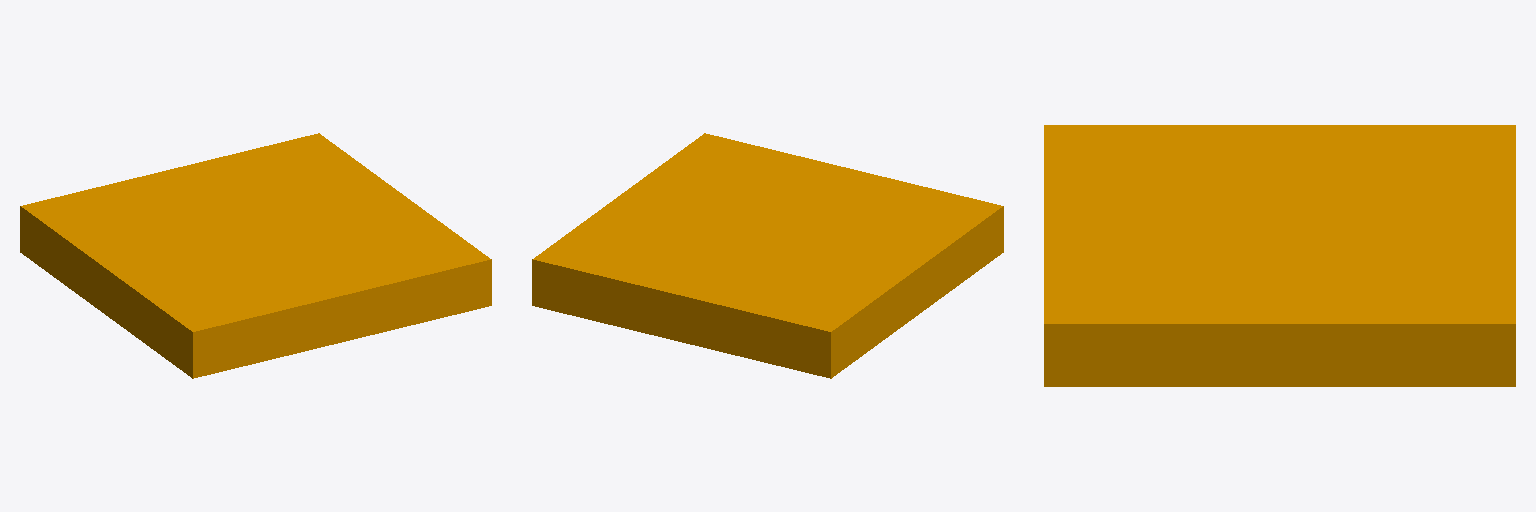
robot.urdf — apriltag_1_3611:
<robot name="apriltag_1_3611">

    <link name="apriltag_link_id1">
        <inertial>
            <origin xyz="0 0 0" rpy="0 0 0"/>
            <mass value="1.0"/>
            <inertia ixx="0.07461" ixy="0.0" ixz="0.0" iyy="0.5854" iyz="0.0" izz="0.02641"/>
        </inertial>
        <collision>
            <origin xyz="0 0 0" rpy="0 0 0"/>
            <geometry>
                <box size="0.2 0.2 0.1"/>
            </geometry>
        </collision>
        <visual>
            <origin xyz="0 0 0" rpy="0 0 0"/>
            <geometry>
                <mesh filename="package://apriltag_description/meshes/apriltag_1.dae"/>
            </geometry>
        </visual>
    </link>
    
    <gazebo reference="apriltag_link_id1">
        <kp>100000.0</kp>
        <kd>100000.0</kd>
        <mu1>0.1</mu1>
        <mu2>0.1</mu2>  
        <fdir1>1 0 0</fdir1>

           <!-- this tag may be unecessary if static is set to true
            (but using since may set static to false later)-->
        <gravity>0</gravity>
    </gazebo>

    <!-- Make sure that the reference="" attribute is not specified -->
    <gazebo>
        <static>true</static>
     
        
    </gazebo>
    

</robot>

--- What the picture shows (computed from the rendered views, not written in the file) ---
3 views of the same robot in one strip: view 1: azimuth 30°, elevation 25°; view 2: azimuth 150°, elevation 25°; view 3: azimuth 270°, elevation 25° (orthographic).
Robot: apriltag_1_3611 — 1 links, 0 joints (none); root link apriltag_link_id1; default pose: all joints at 0.
Links seen in each view (by area): view 1: apriltag_link_id1; view 2: apriltag_link_id1; view 3: apriltag_link_id1.
Boxes of the visible links, left/top/right/bottom form: apriltag_link_id1: left=20, top=133, right=491, bottom=378; apriltag_link_id1: left=532, top=133, right=1003, bottom=378; apriltag_link_id1: left=1044, top=125, right=1515, bottom=386.
Bounding box of the posed robot: 0.16 × 0.16 × 0.0239 m (x, y, z).
1 mesh visuals loaded from 1 distinct referenced files (1 Collada DAE).